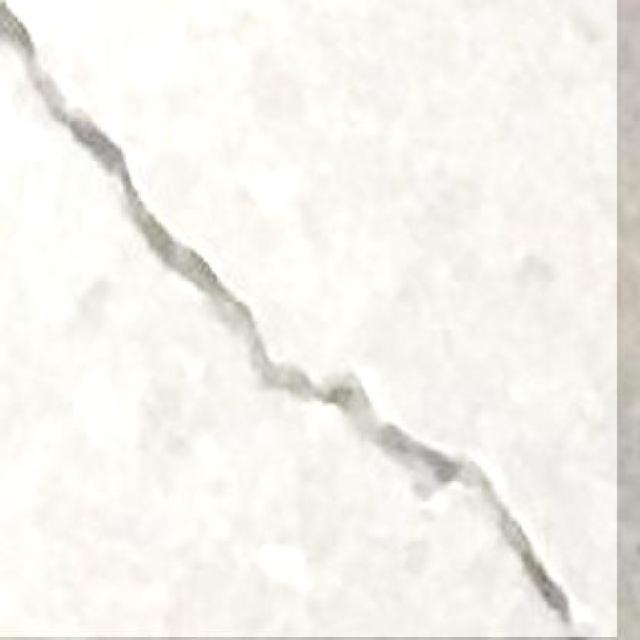Crack: (2, 4, 572, 619)
